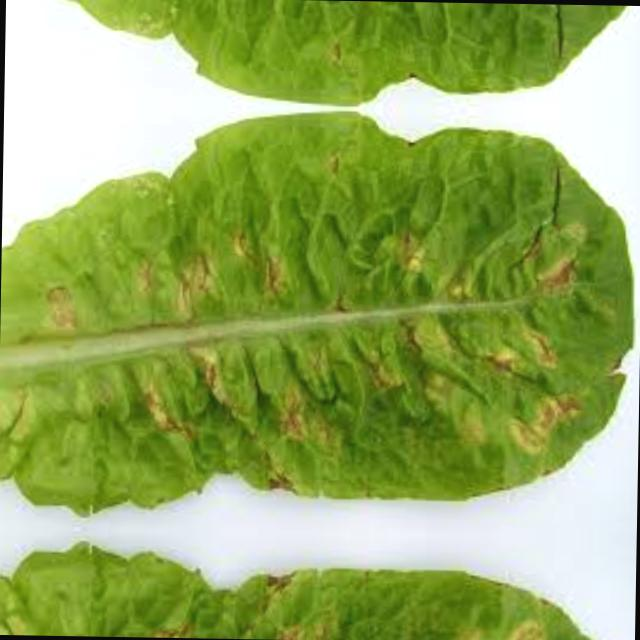Downy_mildew: (11, 127, 632, 510), (17, 0, 633, 87), (7, 556, 623, 640)
